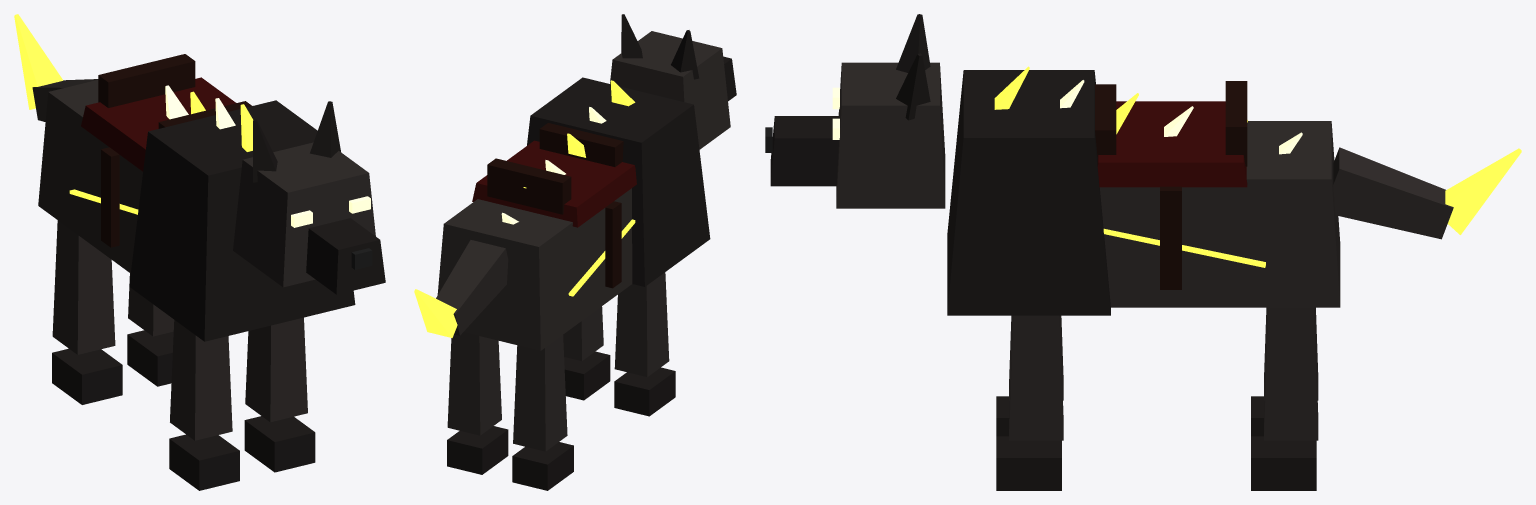
The model's file is Montaria_LoboBrasas.fbx.
3 renders of one model, left to right at view 1: azimuth 30°, elevation 25°; view 2: azimuth 150°, elevation 25°; view 3: azimuth 270°, elevation 25°, orthographic. The views are drawn at different scales.
Visible parts, largest first — view 1: Body, Head, Leg3, Leg1, Leg0, Leg2, Tail; view 2: Body, Head, Leg3, Leg2, Leg1, Tail, Leg0; view 3: Body, Head, Leg2, Leg0, Tail, Leg3, Leg1.
Boxes of the visible parts, box(x1,y1,x2,y2) form: Body: box(38, 54, 355, 341); Head: box(233, 101, 385, 294); Leg3: box(52, 220, 122, 404); Leg1: box(169, 320, 239, 490); Leg0: box(244, 317, 315, 472); Leg2: box(127, 273, 174, 386); Tail: box(14, 14, 98, 121); Body: box(437, 77, 710, 350); Head: box(610, 14, 736, 149); Leg3: box(512, 335, 573, 490); Leg2: box(447, 332, 508, 474); Leg1: box(614, 272, 675, 416); Tail: box(414, 240, 508, 337); Leg0: box(563, 306, 610, 400); Body: box(947, 66, 1340, 315); Head: box(765, 14, 945, 208); Leg2: box(1251, 307, 1318, 490); Leg0: box(996, 315, 1063, 490); Tail: box(1333, 147, 1521, 239); Leg3: box(1251, 307, 1318, 436); Leg1: box(996, 315, 1063, 436).
Size of the model in its own units: 0.702 by 1.74 by 2.81.
